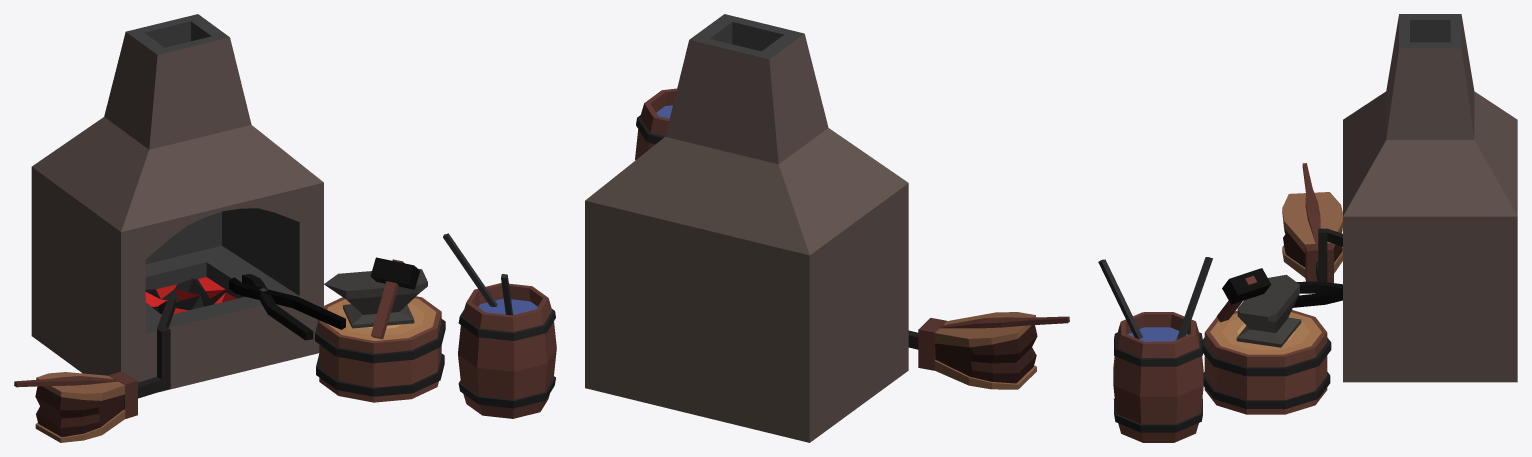
Rendered from smithy_2.fbx.
The picture shows the model from 3 angles, left to right: view 1: azimuth 30°, elevation 25°; view 2: azimuth 150°, elevation 25°; view 3: azimuth 270°, elevation 25°; orthographic projection. The views are drawn at different scales.
Visible parts, largest first — view 1: oven, barrel, stump.001, bellows.001, anvil.001, hammer, ticks right, ticks left, rod.001; view 2: oven, bellows.001, barrel; view 3: oven, barrel, stump.001, bellows.001, anvil.001, hammer, rod_2.001, rod.001, ticks right, ticks left.
Boxes of the visible parts, x1,y1,x2,y2 form: oven: [31, 14, 323, 391]; barrel: [458, 283, 556, 418]; stump.001: [315, 296, 445, 402]; bellows.001: [14, 298, 175, 442]; anvil.001: [324, 268, 427, 328]; hammer: [370, 257, 419, 339]; ticks right: [229, 277, 345, 329]; ticks left: [242, 274, 313, 340]; rod.001: [443, 233, 497, 306]; oven: [585, 14, 908, 442]; bellows.001: [908, 312, 1069, 389]; barrel: [635, 88, 676, 160]; oven: [1343, 14, 1517, 382]; barrel: [1113, 312, 1203, 442]; stump.001: [1203, 310, 1331, 414]; bellows.001: [1282, 163, 1342, 282]; anvil.001: [1236, 274, 1301, 347]; hammer: [1216, 268, 1271, 322]; rod_2.001: [1098, 259, 1142, 339]; rod.001: [1176, 257, 1212, 339]; ticks right: [1293, 288, 1342, 307]; ticks left: [1297, 281, 1342, 293].
Size of the model in its own units: 139 by 90.5 by 113.
